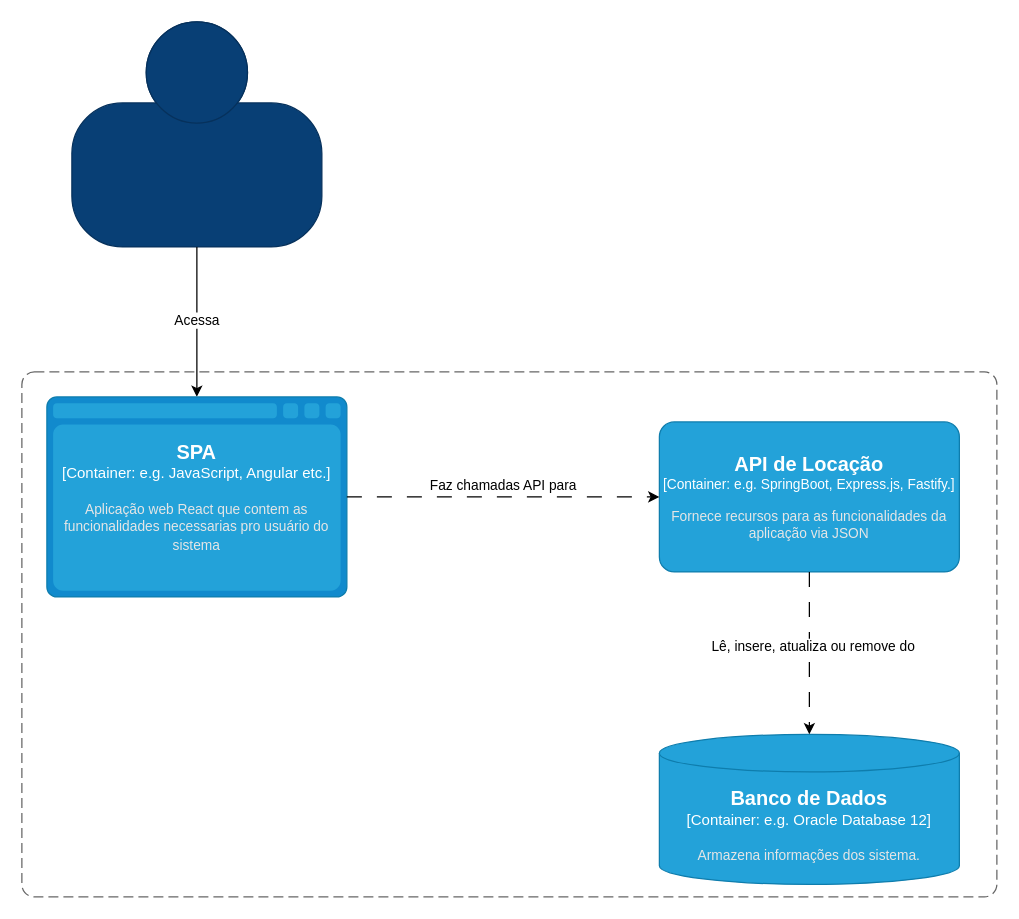
The diagram is 1019 pixels wide and 919 high, and some of its shapes have lost their labels. Here are the shapes that lost their labels. From the top down, the box of each, then its label:
(71, 21, 322, 247): Cliente/Funcionário [Person] Pessoa que aluga
(21, 371, 997, 897): Game Rents [Container]
